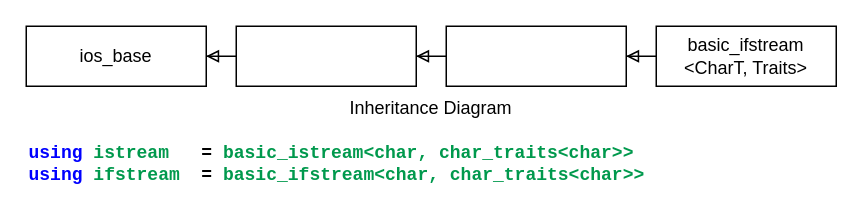
This 863x218 diagram has some shape labels left out. Here are the shapes that lost their labels. From the top down, the box of each, then its label:
(235, 25, 416, 86): basic_ios <CharT, Traits>
(445, 25, 626, 86): basic_istream <CharT, Traits>
